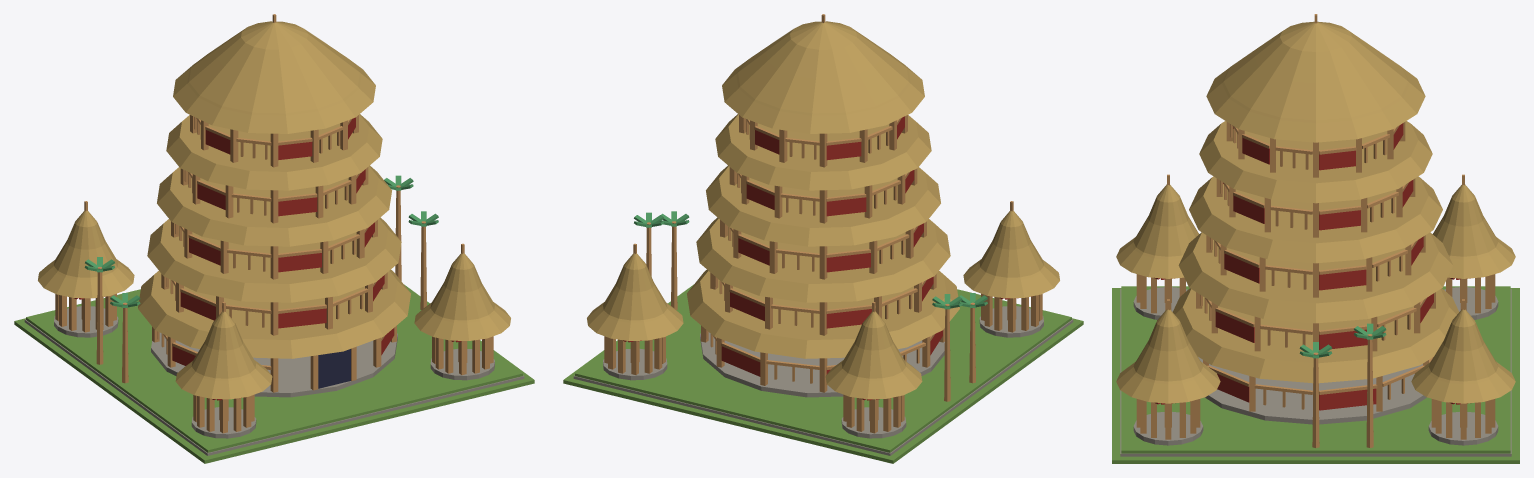
Rendered from house-2x2-5f-fale-a.glb.
The picture shows the model from 3 angles, left to right: view 1: azimuth 30°, elevation 25°; view 2: azimuth 150°, elevation 25°; view 3: azimuth 270°, elevation 25°; orthographic projection. The views are drawn at different scales.
Parts seen in each view (by area): view 1: house-2x2-5f-fale-a; view 2: house-2x2-5f-fale-a; view 3: house-2x2-5f-fale-a.
Boxes of the visible parts, bbox=[...] form: house-2x2-5f-fale-a: bbox=[14, 14, 534, 463]; house-2x2-5f-fale-a: bbox=[563, 14, 1083, 463]; house-2x2-5f-fale-a: bbox=[1112, 14, 1519, 463].
Size of the model in its own units: 1.99 by 1.96 by 1.99.
Materials: 1 (1 with a texture image).
